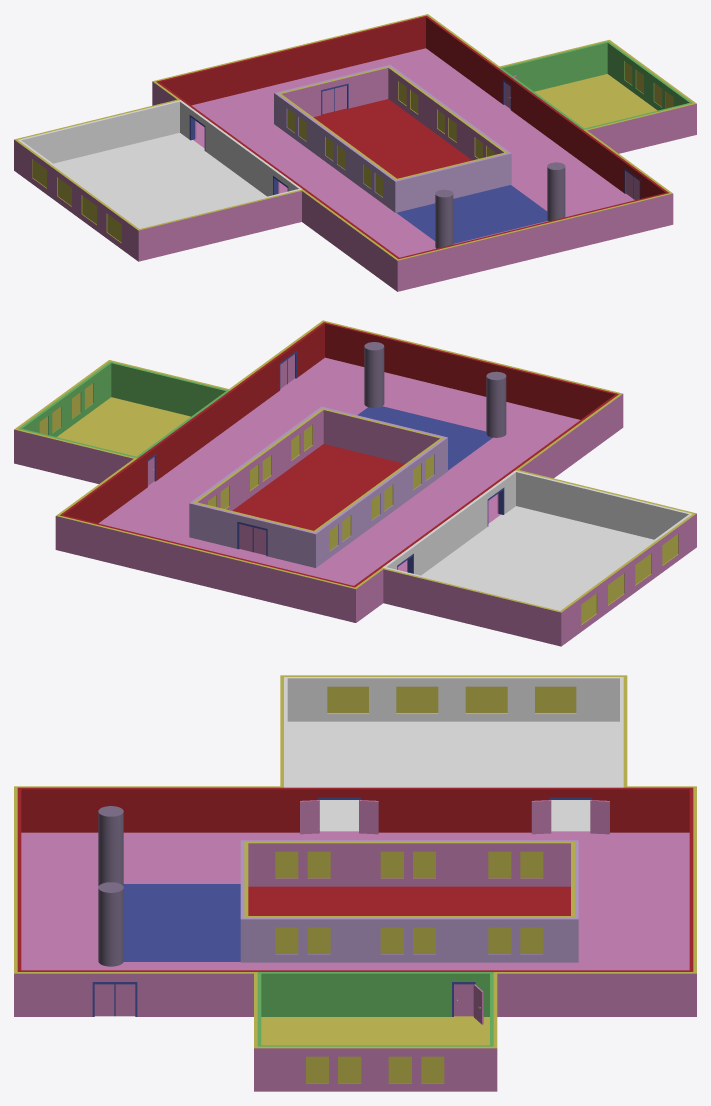
Rendered from fix.fbx.
The picture shows the model from 3 angles, top to bottom: view 1: azimuth 30°, elevation 25°; view 2: azimuth 150°, elevation 25°; view 3: azimuth 270°, elevation 25°; orthographic projection. The views are drawn at different scales.
Parts seen in each view (by area): view 1: floor, Outside, Hallways, Lunchroom (×2), Middle (×2), Classroom (×2), pllars; view 2: floor, Outside, Hallways, Lunchroom (×2), Middle (×2), Classroom (×2), pllars; view 3: floor, Outside, Hallways, Middle (×2), Lunchroom (×2), Classroom (×2), pllars, Door2Lunchroom, Door2Outside, Door1Outside, Door1Lunchroom, Door3Lunchroom (+2 smaller).
Part boxes in pixels (left/top/right/bottom): floor: left=53, top=48, right=657, bottom=257; Outside: left=14, top=14, right=696, bottom=291; Hallways: left=156, top=15, right=668, bottom=259; Lunchroom (×2): left=18, top=100, right=302, bottom=242; Middle (×2): left=274, top=64, right=511, bottom=212; Classroom (×2): left=499, top=41, right=692, bottom=129; pllars: left=435, top=162, right=565, bottom=248; floor: left=57, top=357, right=653, bottom=609; Outside: left=14, top=320, right=696, bottom=646; Hallways: left=60, top=322, right=618, bottom=587; Lunchroom (×2): left=382, top=470, right=692, bottom=624; Middle (×2): left=189, top=406, right=447, bottom=567; Classroom (×2): left=18, top=361, right=229, bottom=458; pllars: left=364, top=342, right=506, bottom=437; floor: left=21, top=721, right=689, bottom=1045; Outside: left=14, top=675, right=696, bottom=1091; Hallways: left=17, top=787, right=693, bottom=971; Middle (×2): left=240, top=840, right=578, bottom=962; Lunchroom (×2): left=284, top=677, right=623, bottom=787; Classroom (×2): left=257, top=972, right=493, bottom=1082; pllars: left=98, top=806, right=123, bottom=966; Door2Lunchroom: left=531, top=800, right=551, bottom=834; Door2Outside: left=94, top=984, right=114, bottom=1016; Door1Outside: left=115, top=984, right=135, bottom=1016; Door1Lunchroom: left=590, top=800, right=609, bottom=834; Door3Lunchroom: left=359, top=800, right=378, bottom=834.
Size of the model in its own units: 47930 by 4425 by 37090.
